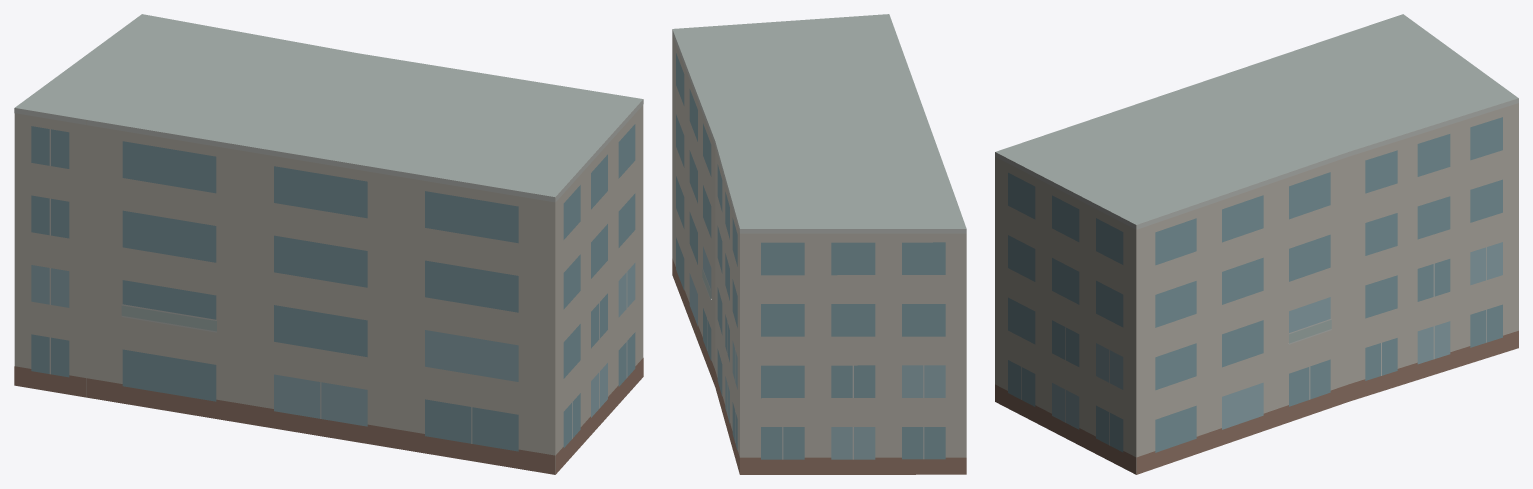
File: survey-upis-33016151.glb
The picture shows the model from 3 angles, left to right: view 1: azimuth 30°, elevation 25°; view 2: azimuth 150°, elevation 25°; view 3: azimuth 270°, elevation 25°; orthographic projection. The views are drawn at different scales.
Visible parts, largest first — view 1: survey-upis-33016151.tmp; view 2: survey-upis-33016151.tmp; view 3: survey-upis-33016151.tmp.
Part boxes in pixels (bbox=[...]): survey-upis-33016151.tmp: bbox=[14, 14, 643, 474]; survey-upis-33016151.tmp: bbox=[672, 14, 966, 474]; survey-upis-33016151.tmp: bbox=[995, 14, 1518, 474].
Bounding box in the file's own units: 23.11 × 12.75 × 24.23.
